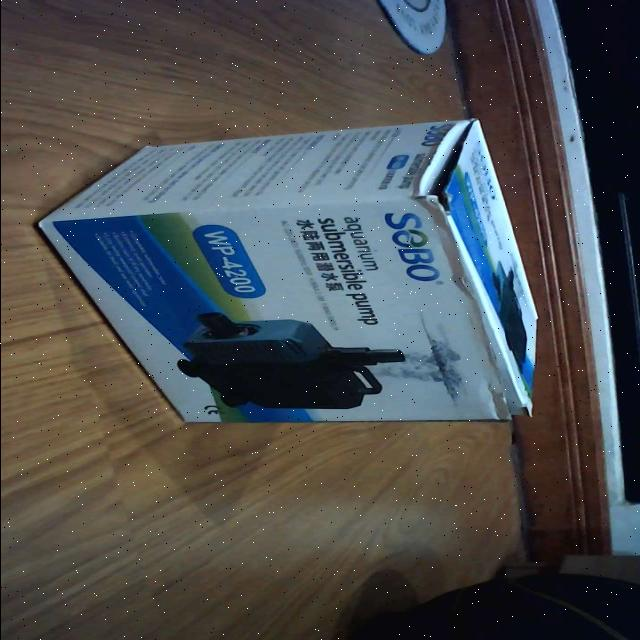SOBO_WP_4200: (29, 111, 552, 432)
